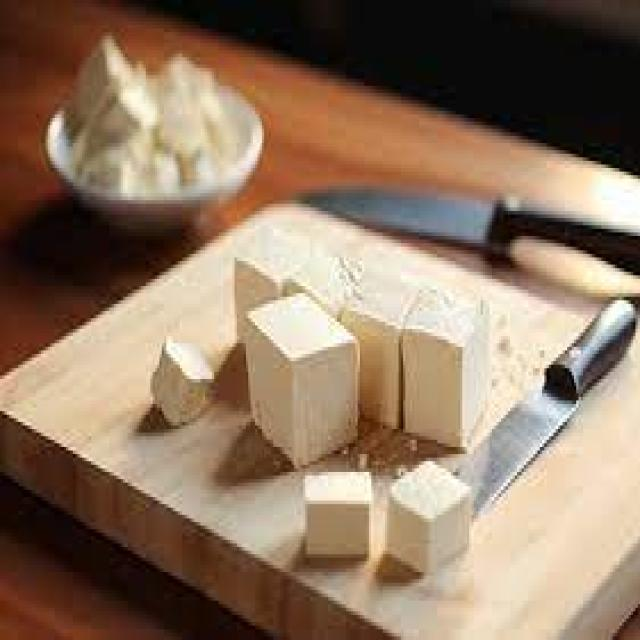tofu: (227, 213, 500, 474)
